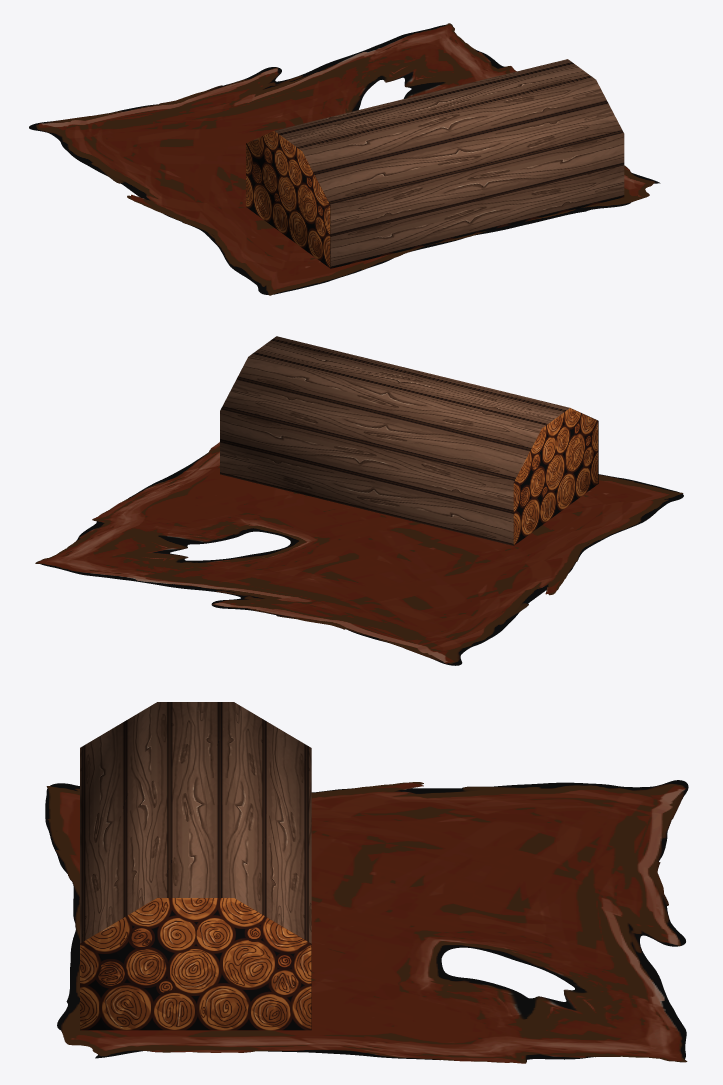
Rendered from Storage.fbx.
3 views of the same model, one above another, from view 1: azimuth 30°, elevation 25°; view 2: azimuth 150°, elevation 25°; view 3: azimuth 270°, elevation 25° (orthographic). The views are drawn at different scales.
Visible parts, largest first — view 1: Storage; view 2: Storage; view 3: Storage.
Boxes of the visible parts, x1,y1,x2,y2 form: Storage: (29,23,660,295); Storage: (35,336,683,665); Storage: (45,702,688,1063).
Bounding box in the file's own units: 6 × 1.26 × 6.
